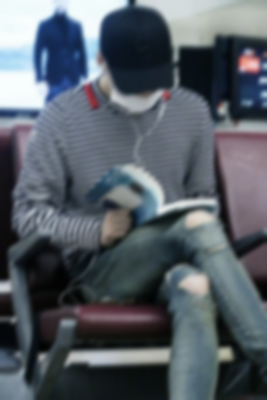mask_weared_incorrect: (106, 76, 162, 116)
